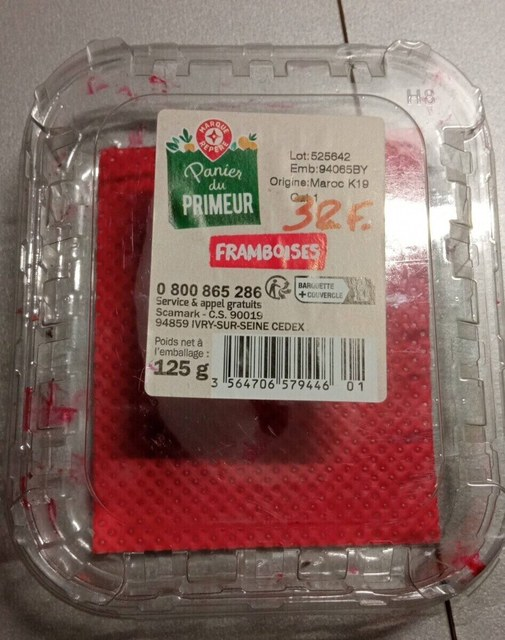Framboises: (25, 32, 480, 608)
